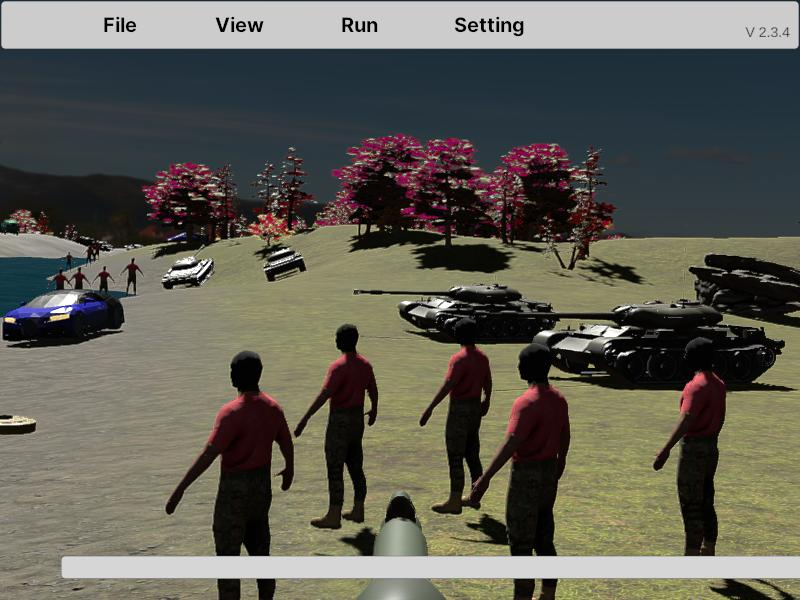Human: (164, 346, 296, 598), (472, 339, 572, 599), (294, 320, 379, 529), (653, 334, 726, 556), (419, 316, 493, 513)
Tank: (511, 297, 786, 388), (355, 282, 558, 345), (162, 241, 214, 291), (264, 245, 307, 282)
car: (2, 288, 124, 345)
